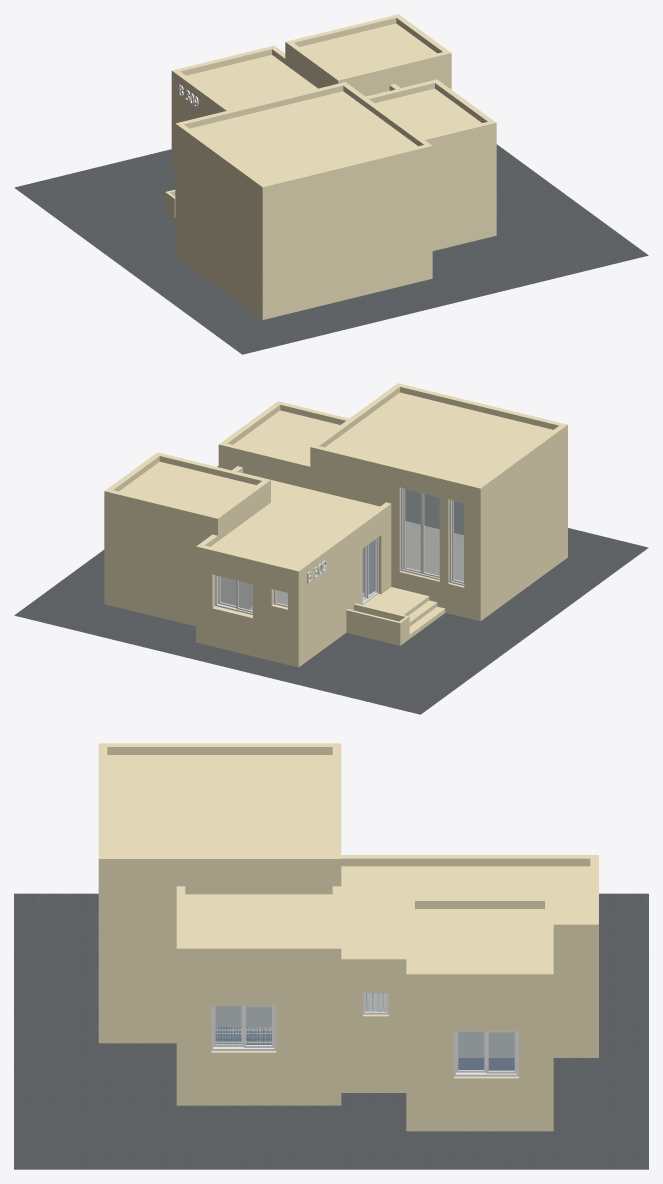
The picture shows the model from 3 angles, top to bottom: view 1: azimuth 30°, elevation 25°; view 2: azimuth 150°, elevation 25°; view 3: azimuth 270°, elevation 25°; orthographic projection. The views are drawn at different scales.
Visible parts, largest first — view 1: 24884, Root Node, 25260, 24559, 24569, 25454, 25312, 24579, 25398; view 2: 24884, Root Node, 24579, 24569, 25260, 25454, 24559, 25312, 25250, 25574, 25398, 25575 (+2 smaller); view 3: Root Node, 24884, 24559, 24569, 25260, 24579, 25454, 25312, 25398, 25759, 25758.
Boxes of the visible parts, x1,y1,x2,y2 form: 24884: [175, 82, 432, 319]; Root Node: [14, 144, 648, 354]; 25260: [190, 91, 417, 183]; 24559: [366, 79, 496, 250]; 24569: [285, 14, 451, 96]; 25454: [186, 55, 388, 109]; 25312: [300, 23, 436, 76]; 24579: [171, 45, 400, 168]; 25398: [375, 88, 481, 137]; 24884: [310, 383, 567, 621]; Root Node: [14, 466, 648, 714]; 24579: [196, 466, 391, 667]; 24569: [104, 452, 270, 626]; 25260: [325, 392, 552, 484]; 25454: [211, 473, 379, 567]; 24559: [218, 401, 348, 496]; 25312: [119, 461, 256, 514]; 25250: [346, 587, 445, 645]; 25574: [401, 487, 439, 580]; 25398: [233, 410, 339, 463]; 25575: [449, 499, 464, 585]; Root Node: [14, 893, 648, 1169]; 24884: [98, 743, 341, 1043]; 24559: [176, 886, 341, 1105]; 24569: [406, 897, 553, 1131]; 25260: [107, 755, 332, 855]; 24579: [341, 855, 598, 1092]; 25454: [341, 866, 590, 955]; 25312: [415, 909, 544, 970]; 25398: [185, 894, 332, 944]; 25759: [211, 1005, 276, 1050]; 25758: [454, 1031, 518, 1076].
Bounding box in the file's own units: 15.06 × 4.7 × 14.65.
612 materials, 1 textured.
